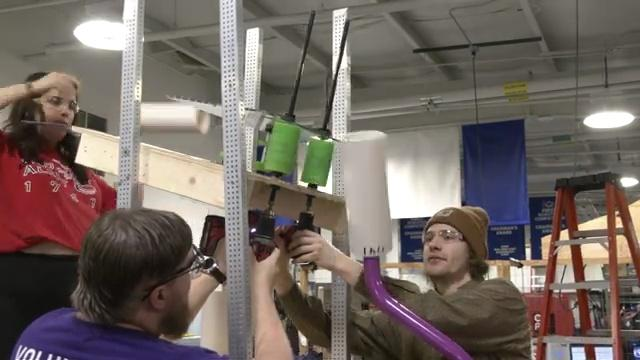CORAL: (340, 132, 393, 257), (141, 102, 210, 135)
